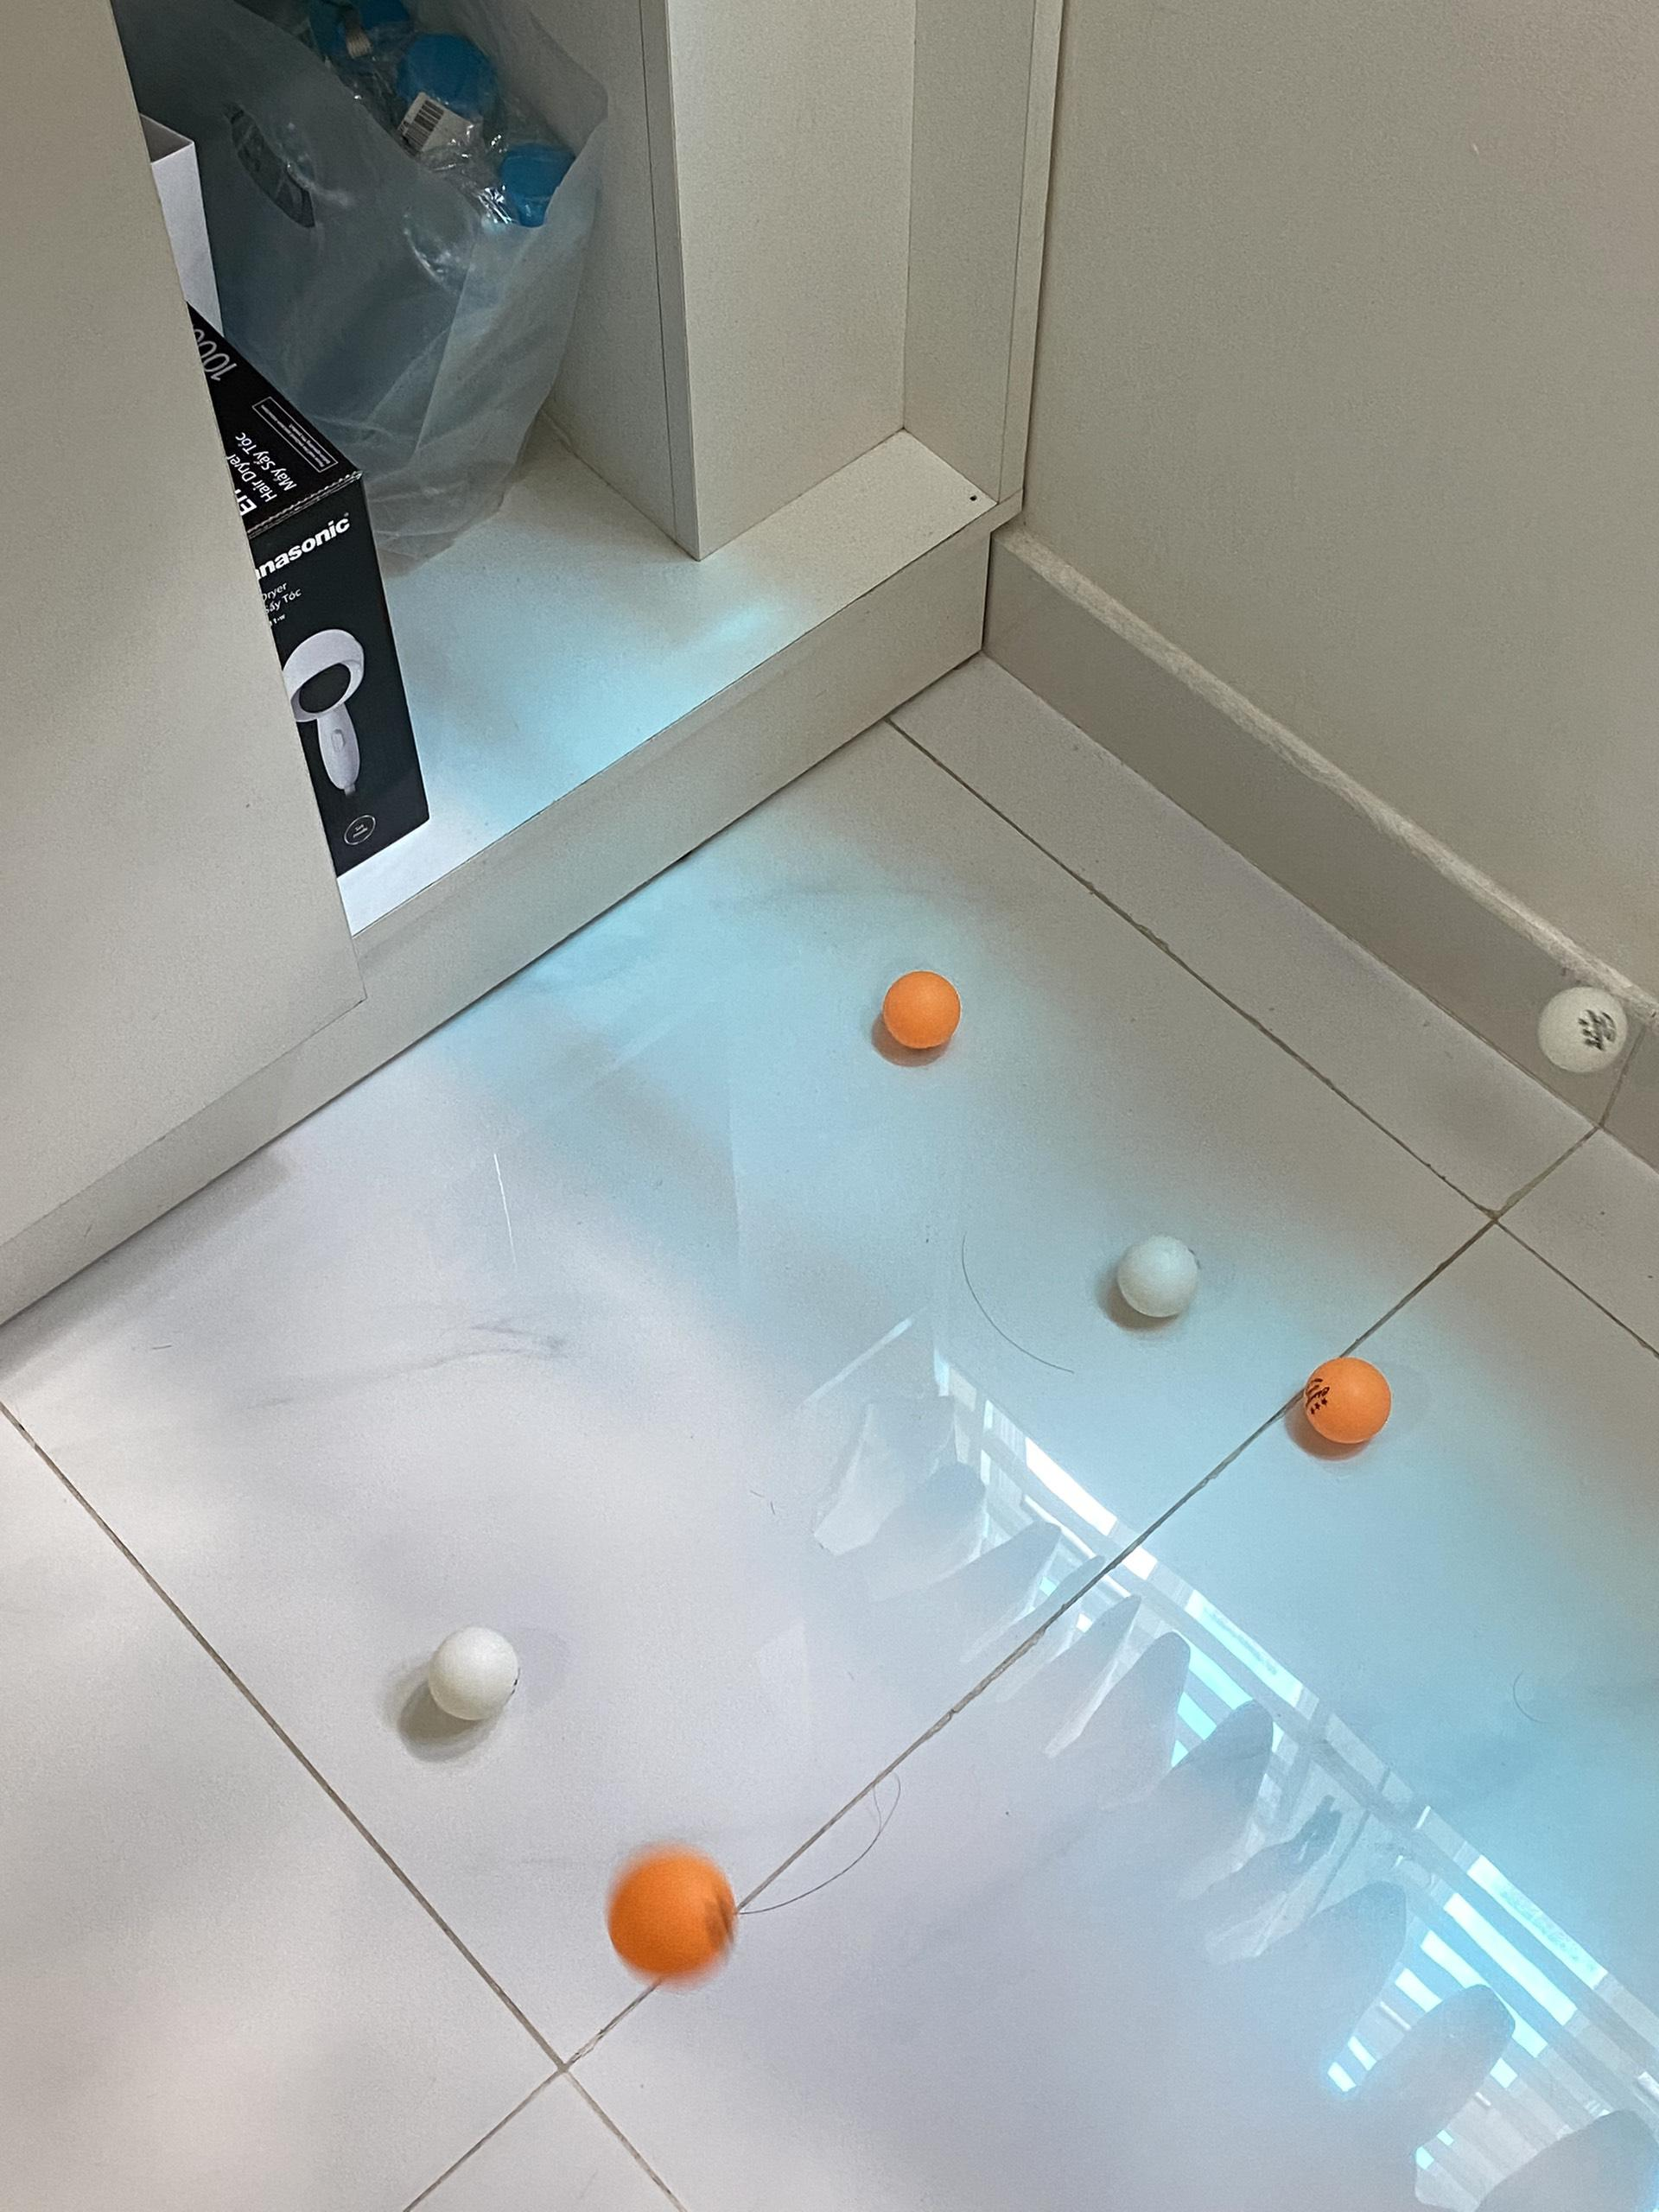oball: (610, 1846, 741, 1984), (1307, 1353, 1394, 1449), (882, 965, 962, 1052)
